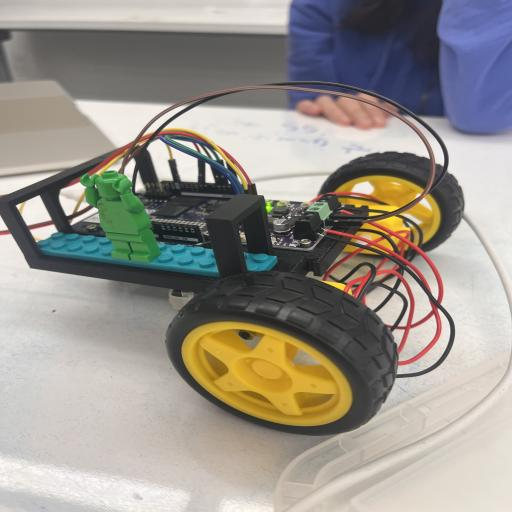Lego-Minifig: (80, 170, 161, 263)
